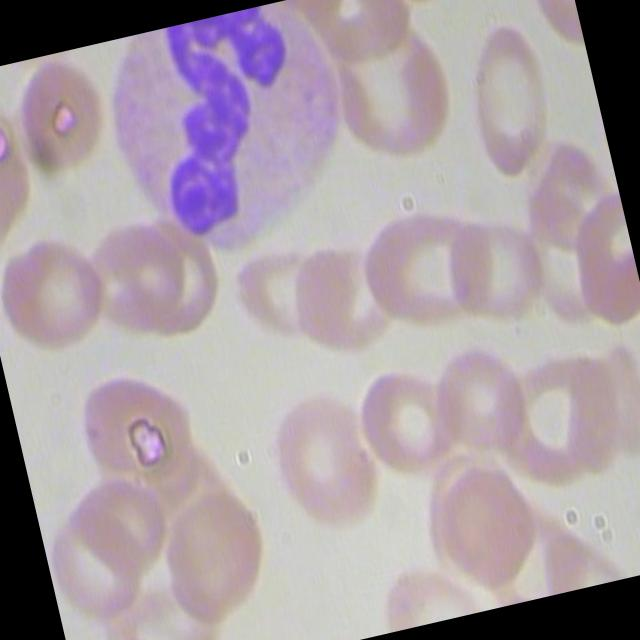RBC: (70, 346, 218, 514), (136, 459, 284, 627), (448, 8, 570, 189), (346, 183, 484, 342), (264, 380, 400, 537), (78, 188, 202, 344), (0, 210, 119, 367), (278, 212, 402, 360), (421, 451, 545, 593), (417, 327, 541, 469), (220, 235, 344, 376), (351, 348, 462, 477), (551, 188, 640, 335)
WBC: (90, 0, 376, 274)
